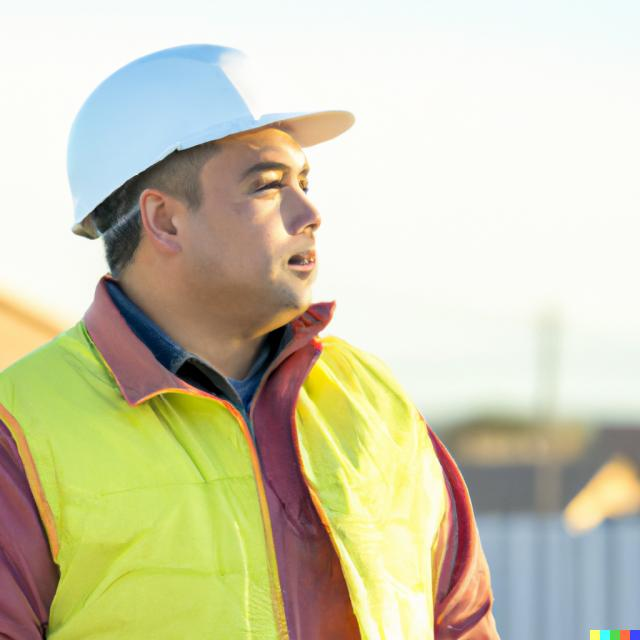Reflective-Jacket: (0, 320, 478, 640)
Safety-Helmet: (55, 42, 361, 222)
